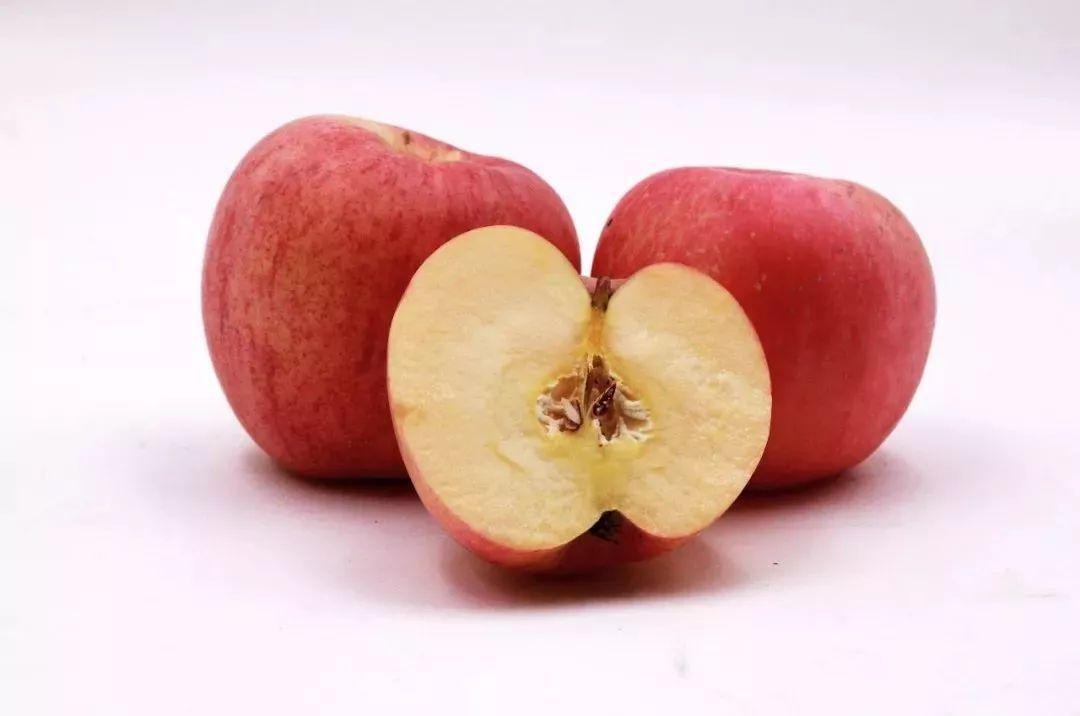apple: (197, 111, 586, 489), (591, 165, 942, 497)
